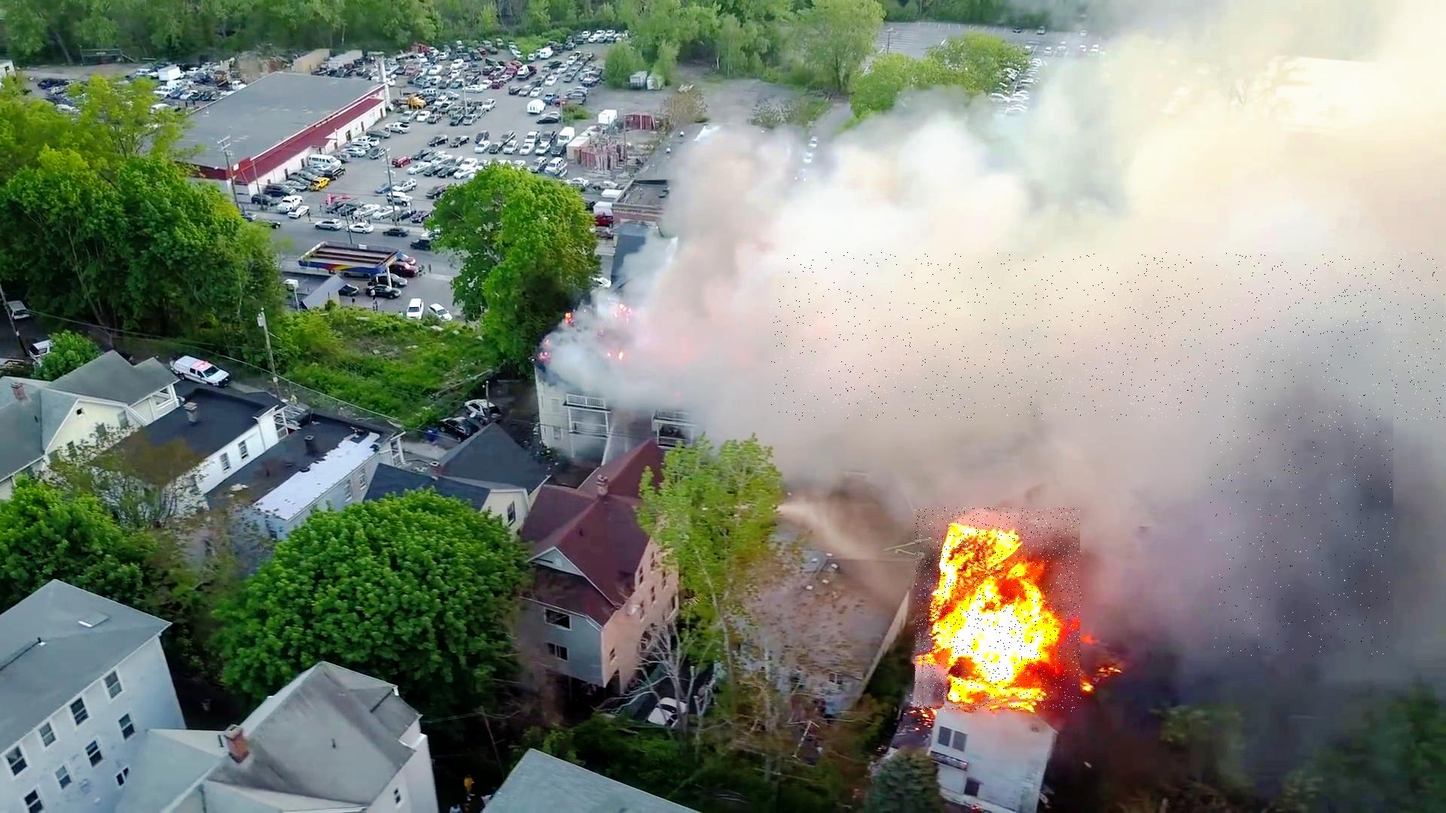fire: (916, 508, 1082, 712)
smoke: (771, 253, 1446, 420), (1210, 333, 1394, 659)
